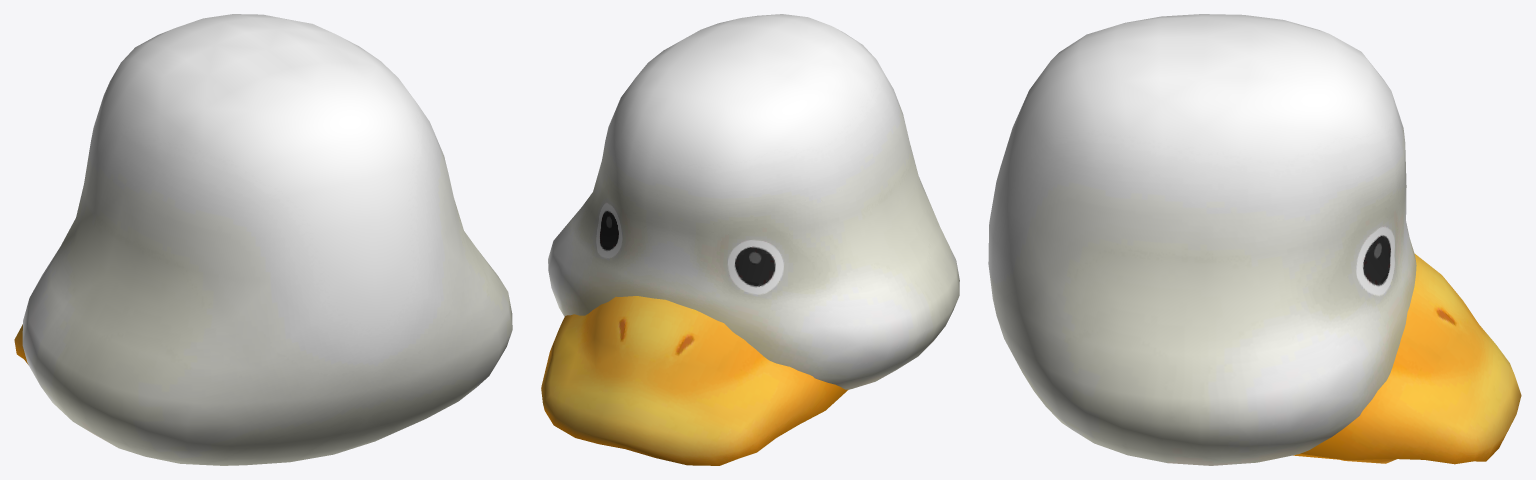
Rendered from Duck.glb.
3 views of the same model, side by side, from view 1: azimuth 30°, elevation 25°; view 2: azimuth 150°, elevation 25°; view 3: azimuth 270°, elevation 25° (orthographic). The views are drawn at different scales.
Parts seen in each view (by area): view 1: Duck; view 2: Duck; view 3: Duck.
Part boxes in pixels (left/top/right/bottom): Duck: left=14, top=14, right=512, bottom=465; Duck: left=541, top=14, right=959, bottom=465; Duck: left=988, top=14, right=1521, bottom=465.
Size of the model in its own units: 0.916 by 0.8134 by 0.9845.
1 material, 1 textured.
